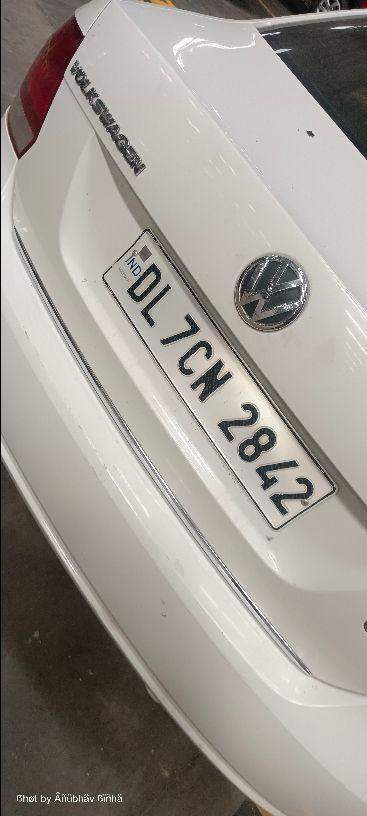license_plate: (2, 1, 365, 812), (100, 226, 338, 533)
